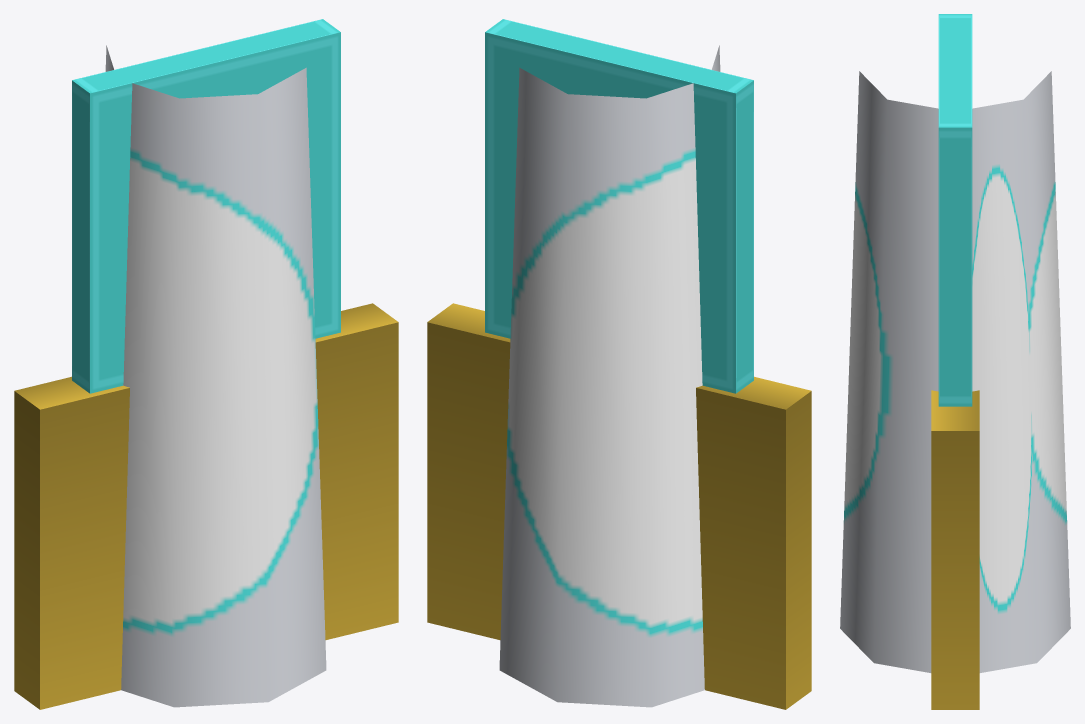
The model's file is KIT_Door_Mirror_2.glb.
3 views of the same model, side by side, from view 1: azimuth 30°, elevation 25°; view 2: azimuth 150°, elevation 25°; view 3: azimuth 270°, elevation 25° (orthographic). The views are drawn at different scales.
Parts seen in each view (by area): view 1: KIT_Door_Mirror_2; view 2: KIT_Door_Mirror_2; view 3: KIT_Door_Mirror_2.
Boxes of the visible parts, x1,y1,x2,y2 form: KIT_Door_Mirror_2: [14, 19, 398, 709]; KIT_Door_Mirror_2: [427, 19, 811, 709]; KIT_Door_Mirror_2: [840, 14, 1070, 709].
Bounding box in the file's own units: 2 × 3.2 × 1.2.
Materials: 1 (1 with a texture image).
